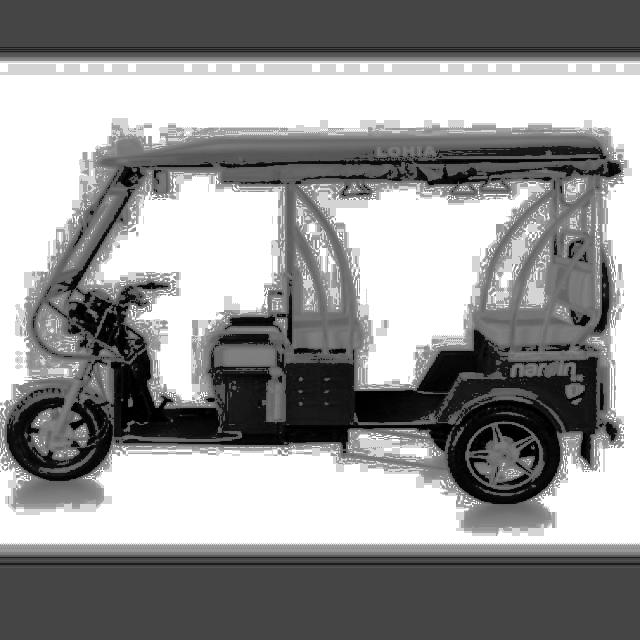Toto: (20, 132, 621, 516)
